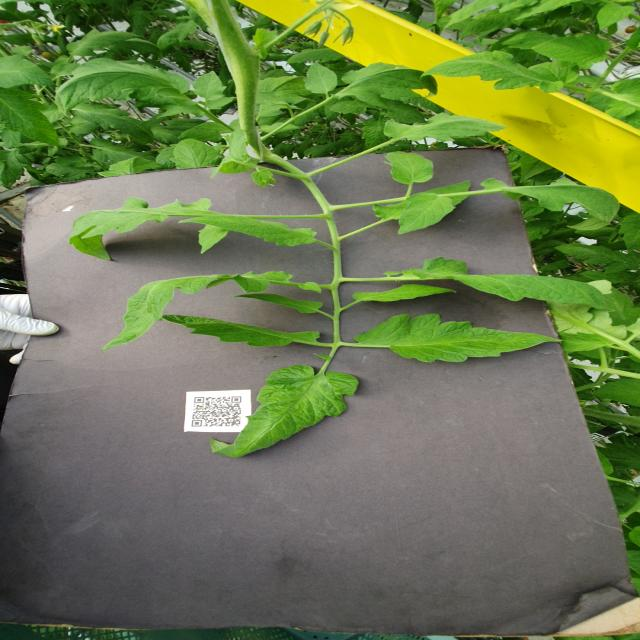Healthy Leaf: (97, 270, 295, 356), (211, 365, 361, 459), (401, 257, 610, 314), (358, 314, 567, 364), (67, 197, 215, 264), (54, 57, 191, 114), (418, 51, 581, 95), (160, 314, 327, 349), (181, 214, 321, 249), (1, 87, 62, 149), (383, 113, 509, 143), (532, 33, 612, 67), (554, 243, 640, 274), (400, 191, 458, 236), (68, 29, 146, 58), (234, 293, 326, 316), (354, 284, 458, 304), (1, 56, 60, 90), (385, 151, 435, 187), (169, 139, 222, 171), (306, 62, 340, 96), (598, 3, 637, 32), (194, 71, 229, 103)
